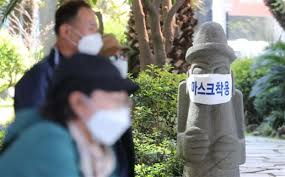Stone Statue: (157, 16, 258, 177)
